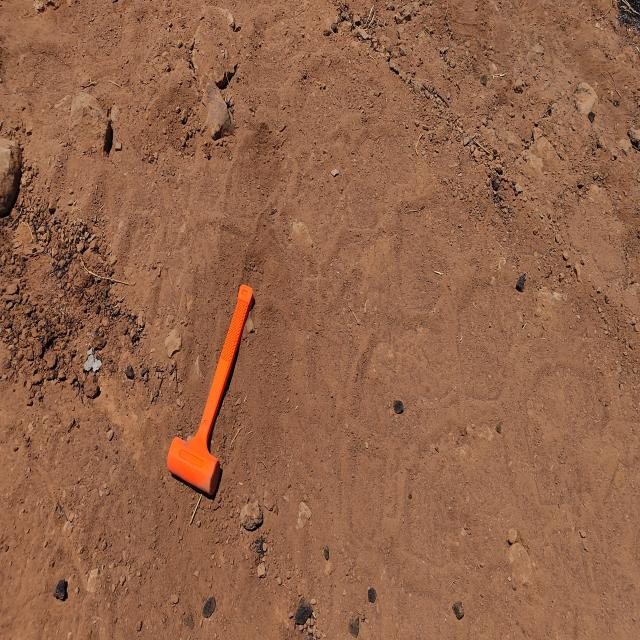Orange_hammer: (166, 282, 254, 499)
